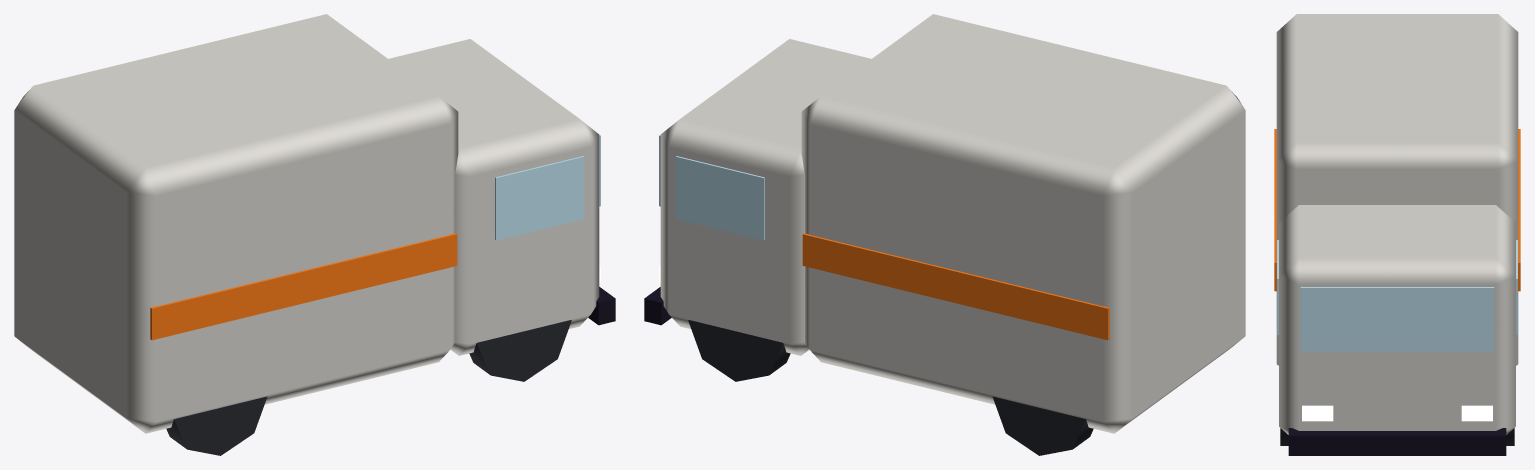
File: station_transport_ausstattung_3_2.glb
The picture shows the model from 3 angles, left to right: view 1: azimuth 30°, elevation 25°; view 2: azimuth 150°, elevation 25°; view 3: azimuth 270°, elevation 25°; orthographic projection. The views are drawn at different scales.
Visible parts, largest first — view 1: station_transport_ausstattung_3_2; view 2: station_transport_ausstattung_3_2; view 3: station_transport_ausstattung_3_2.
Part boxes in pixels (x1,y1,x2,y2): station_transport_ausstattung_3_2: (14, 14, 615, 455); station_transport_ausstattung_3_2: (644, 14, 1245, 455); station_transport_ausstattung_3_2: (1274, 14, 1520, 455).
Bounding box in the file's own units: 1.12 × 0.66 × 0.55.
